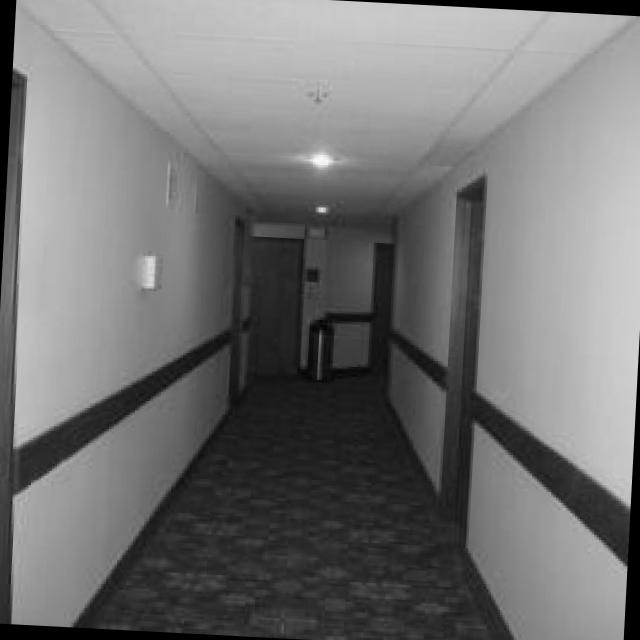ceiling beam: (19, 0, 639, 226)
door bars: (441, 171, 488, 538), (0, 69, 30, 619), (253, 237, 307, 367), (370, 243, 399, 366), (231, 216, 248, 398)
exit sign: (307, 224, 330, 238)
floor -X: (76, 372, 514, 640)
light fixture: (311, 152, 331, 167), (318, 203, 331, 210)
room label: (308, 264, 323, 280)
sprinkler: (307, 82, 329, 102)
trash compactor: (310, 315, 335, 375)
wall clock: (0, 6, 258, 622), (389, 18, 640, 640), (252, 219, 400, 376)
